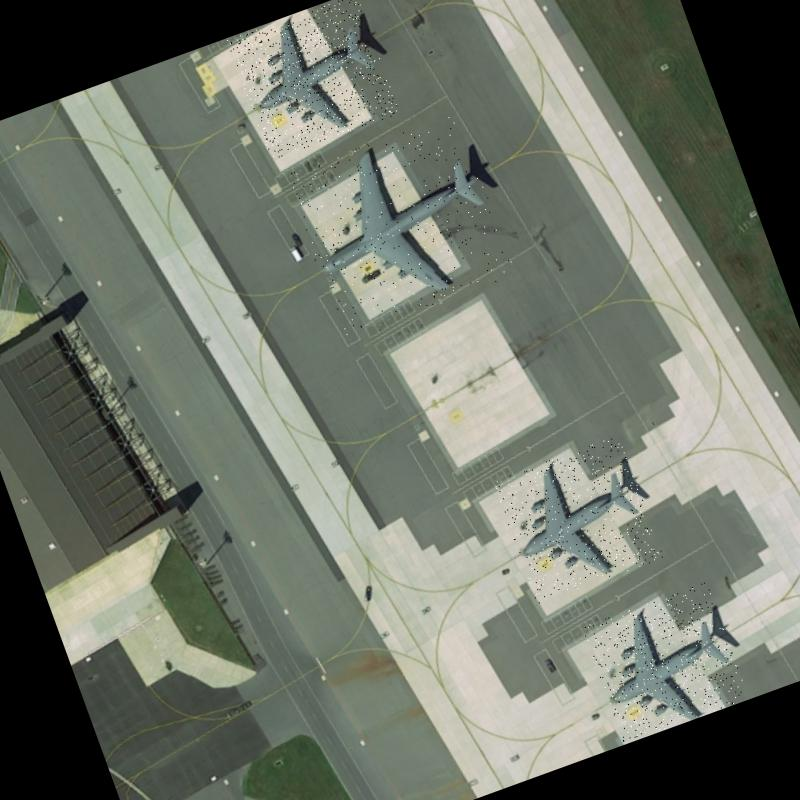A3: (492, 435, 664, 604), (226, 0, 399, 159), (582, 581, 748, 743)
A4: (285, 110, 516, 336)
